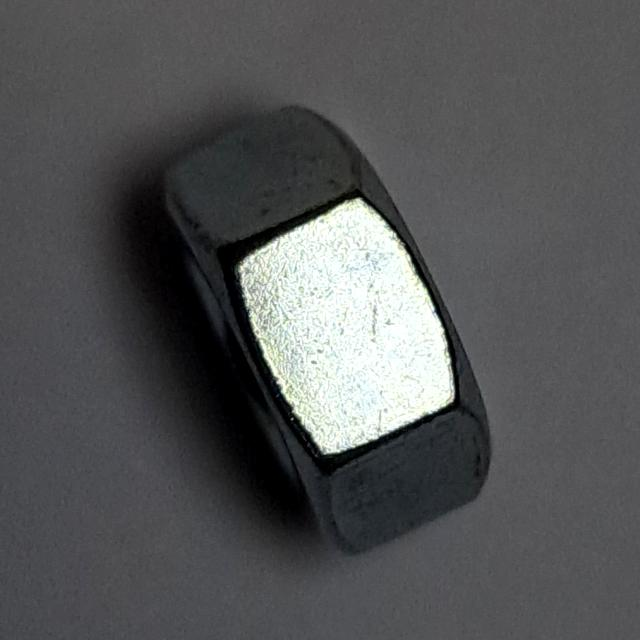Side_Excellent: (149, 85, 505, 573)
